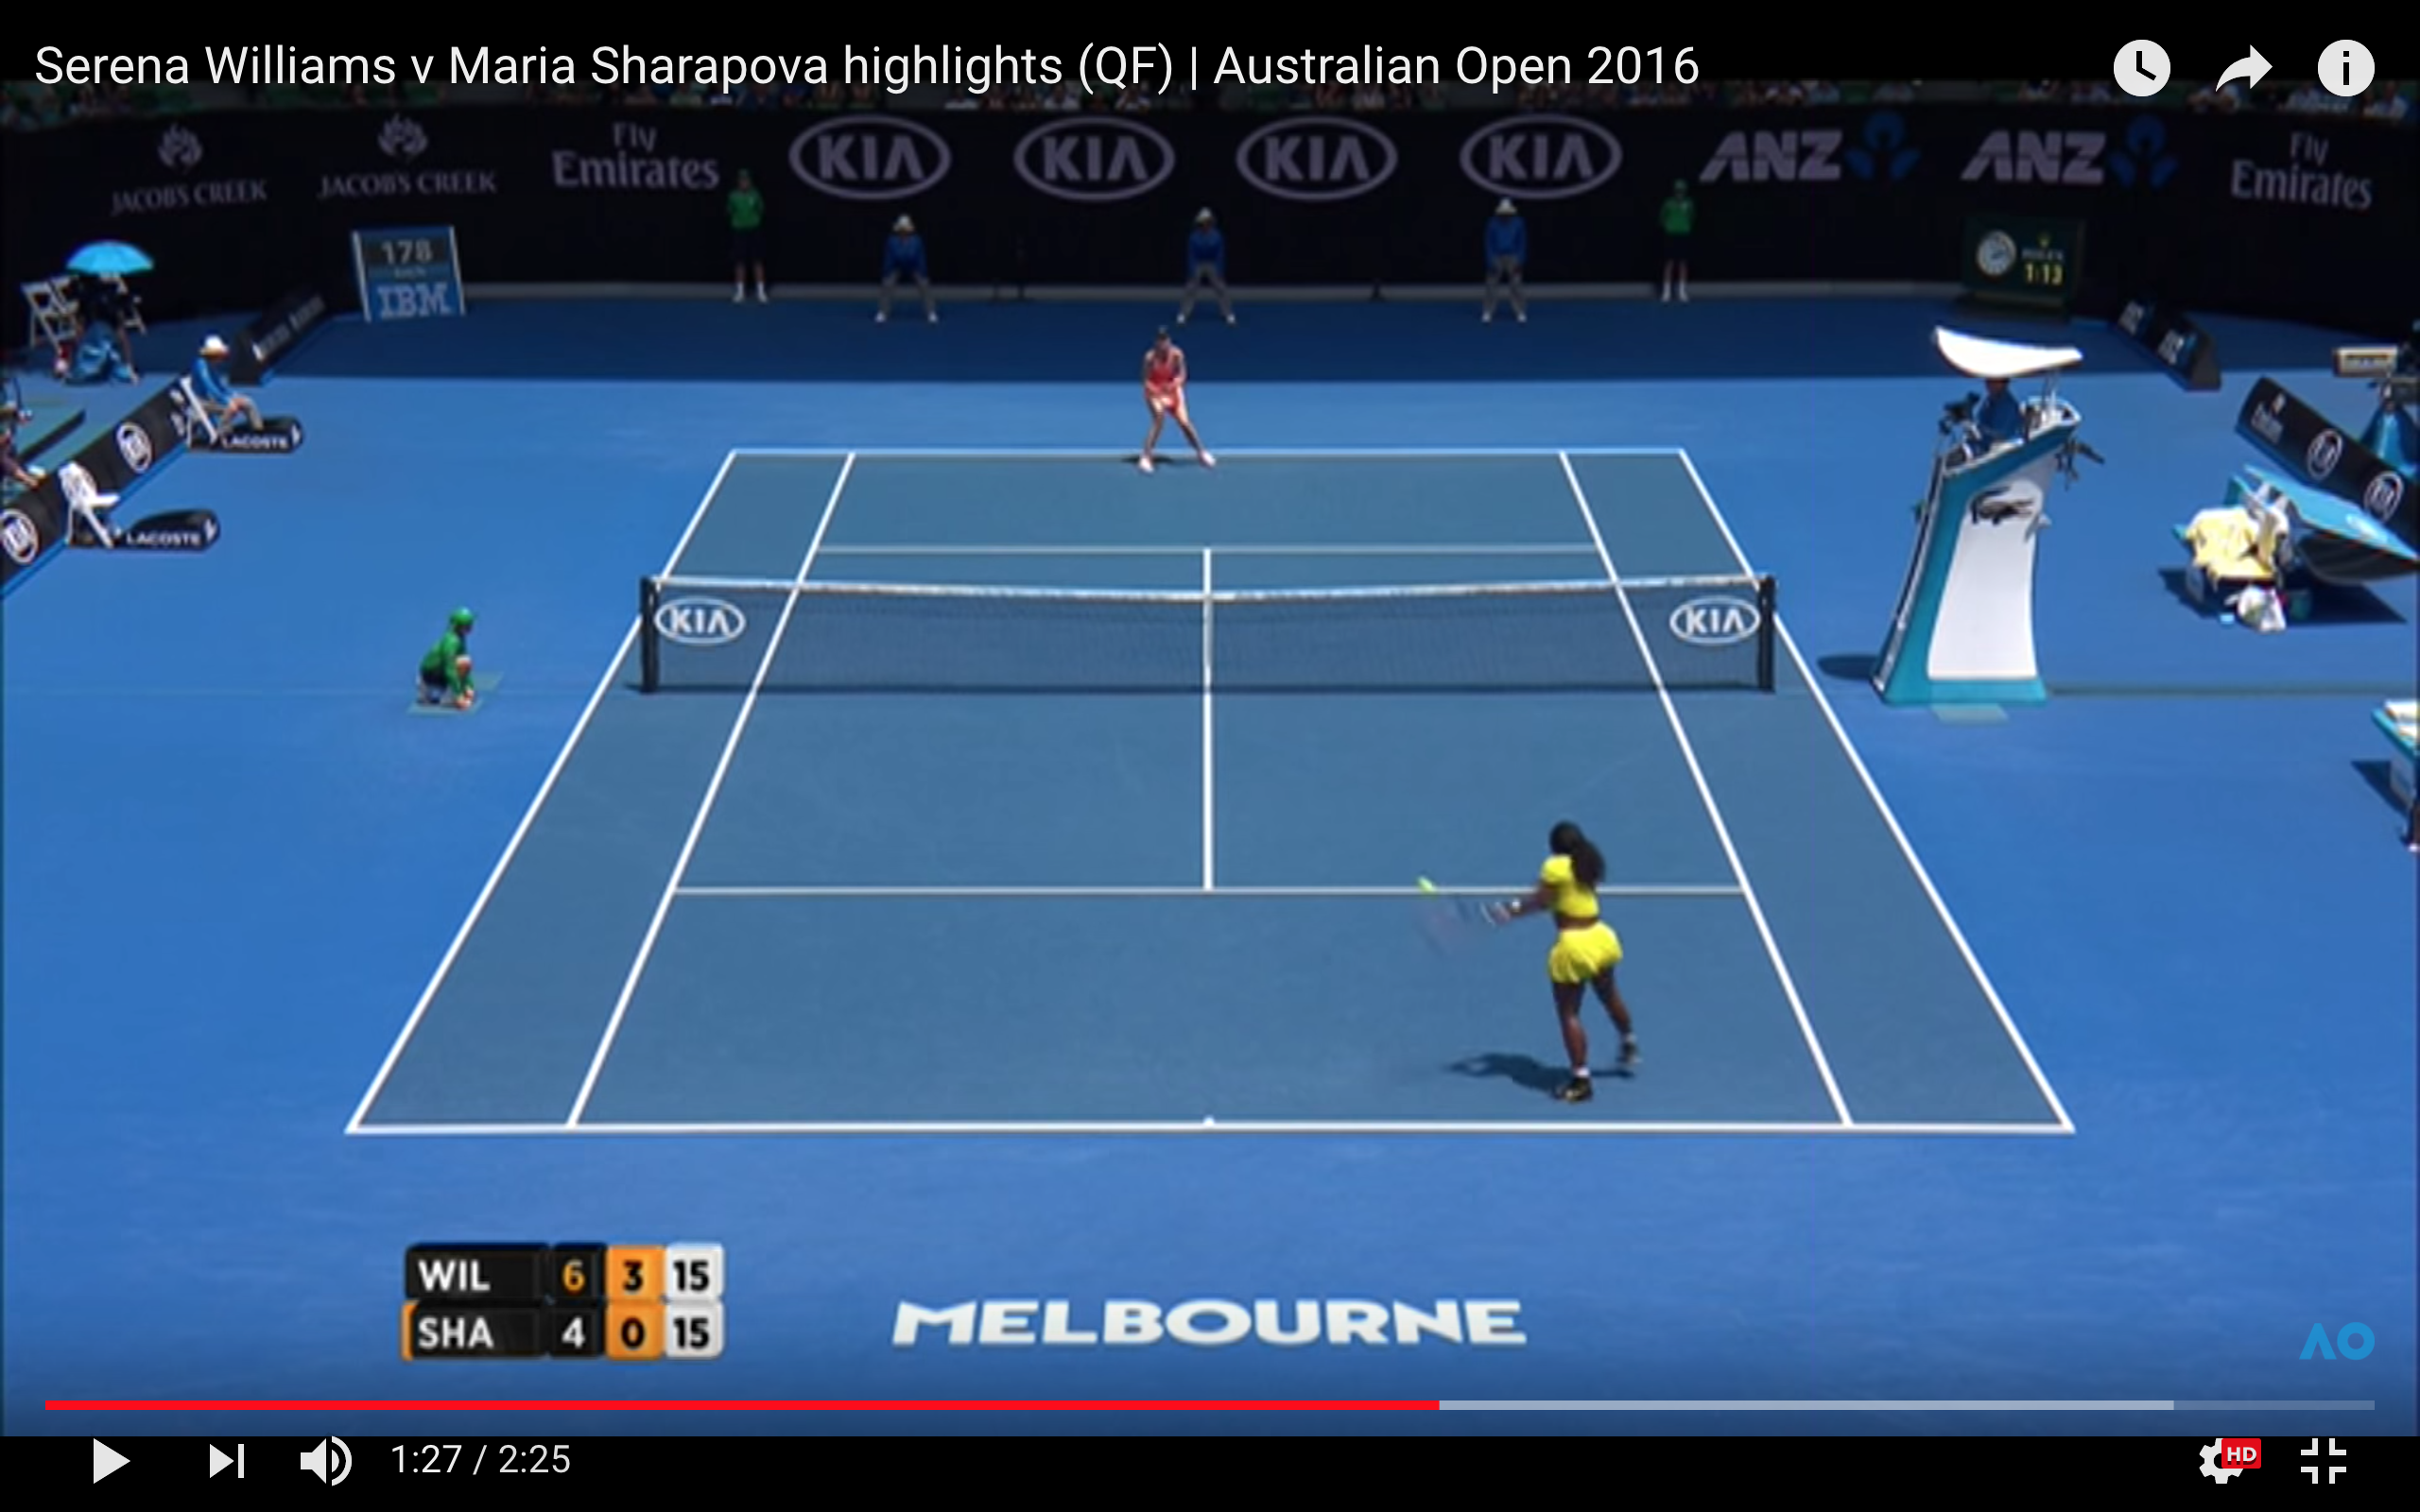tennis ball: (1411, 868, 1445, 902)
tennis player: (1495, 815, 1651, 1117), (1123, 320, 1221, 484)
